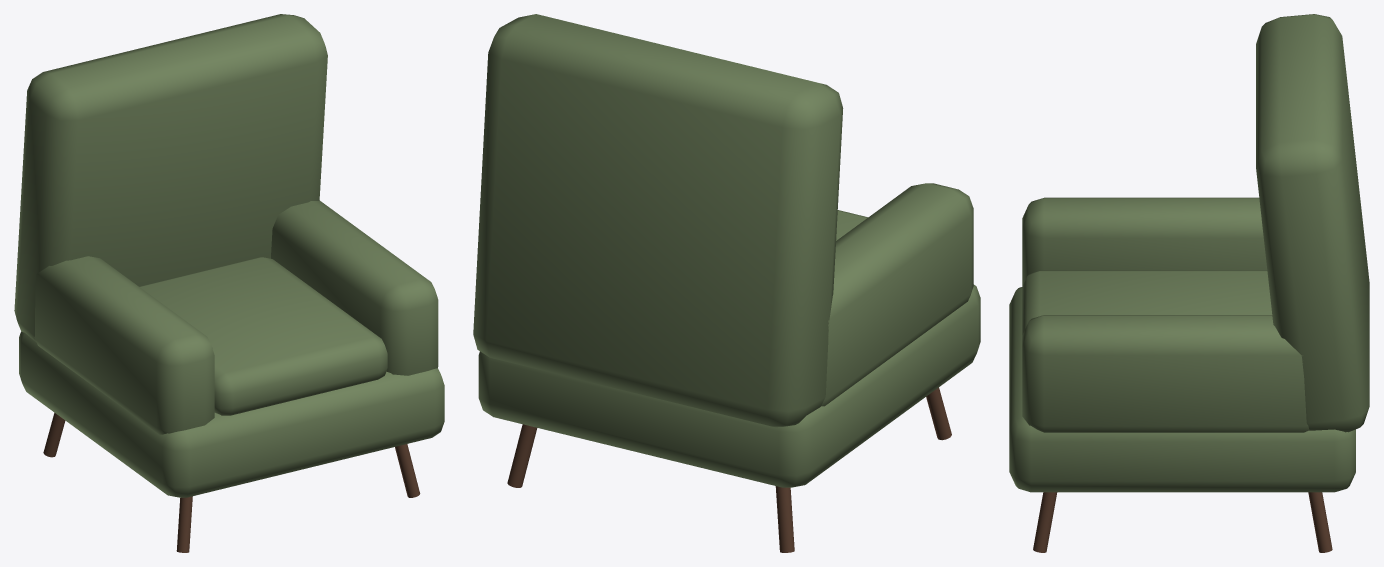
File: i_arm_1.glb
3 views of the same model, side by side, from view 1: azimuth 30°, elevation 25°; view 2: azimuth 150°, elevation 25°; view 3: azimuth 270°, elevation 25° (orthographic). The views are drawn at different scales.
Parts seen in each view (by area): view 1: o.002, o, o.001, o.003, o.004, o.005, o.007, o.006; view 2: o.002, o, o.003, o.006, o.008, o.005; view 3: o.002, o.004, o, o.003, o.001, o.007, o.008.
Boxes of the visible parts, x1,y1,x2,y2 form: o.002: (14,14,327,341); o: (19,331,444,497); o.001: (140,257,387,415); o.003: (34,256,214,434); o.004: (271,200,438,375); o.005: (176,496,192,552); o.007: (395,444,420,497); o.006: (43,412,65,457); o.002: (473,14,843,427); o: (478,284,980,487); o.003: (821,183,973,406); o.006: (775,486,794,552); o.008: (507,424,537,487); o.005: (926,387,951,440); o.002: (1256,14,1369,432); o.004: (1022,315,1309,432); o: (1009,287,1355,492); o.003: (1022,197,1267,286); o.001: (1022,270,1272,334); o.007: (1033,492,1057,552); o.008: (1308,492,1332,552).
Size of the model in its own units: 0.8 by 1.06 by 0.8309.
